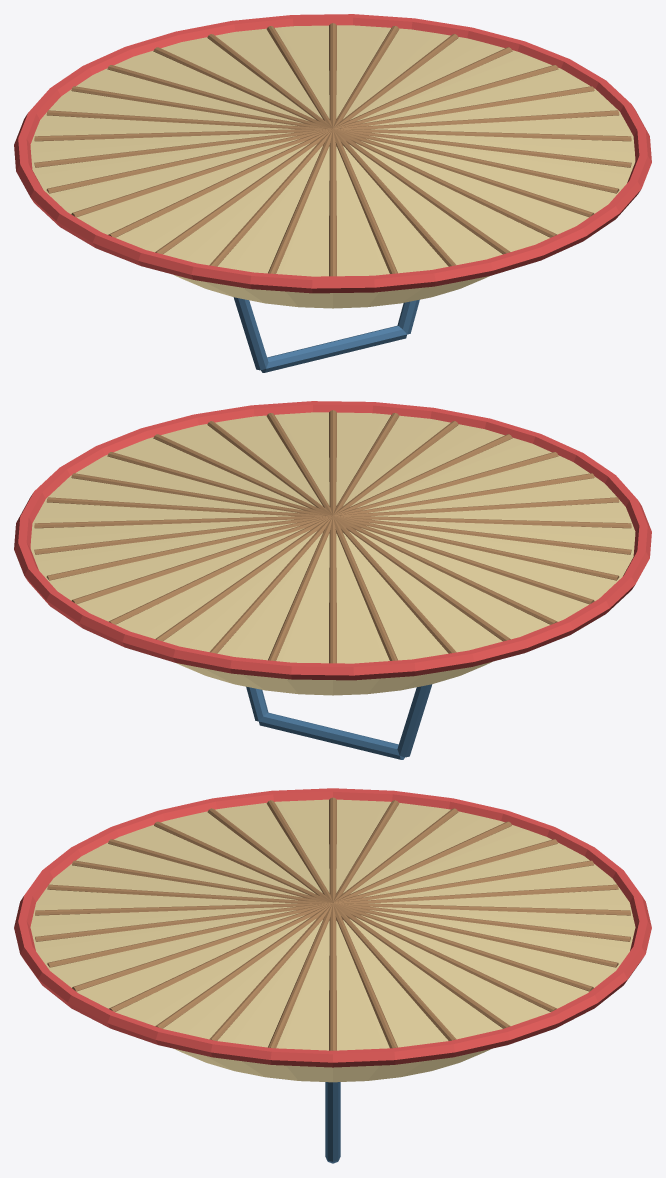
File: kabuki_kasa_hat.glb
3 views of the same model, one above another, from view 1: azimuth 30°, elevation 25°; view 2: azimuth 150°, elevation 25°; view 3: azimuth 270°, elevation 25° (orthographic).
Visible parts, largest first — view 1: Bamboo theatre kasa silhouette, Silk kasa brim, Silk chin strap_01, Bamboo kasa spoke.013, Bamboo kasa spoke.027, Bamboo kasa spoke.014, Bamboo kasa spoke.026, Bamboo kasa spoke.012, Bamboo kasa spoke.028, Bamboo kasa spoke.015, Bamboo kasa spoke.025, Bamboo kasa spoke.016 (+22 smaller); view 2: Bamboo theatre kasa silhouette, Silk kasa brim, Silk chin strap_01, Bamboo kasa spoke.003, Bamboo kasa spoke.017, Bamboo kasa spoke.004, Bamboo kasa spoke.016, Bamboo kasa spoke.002, Bamboo kasa spoke.018, Bamboo kasa spoke.015, Bamboo kasa spoke.005, Bamboo kasa spoke.014 (+22 smaller); view 3: Bamboo theatre kasa silhouette, Silk kasa brim, Bamboo kasa spoke.007, Bamboo kasa spoke.023, Bamboo kasa spoke.006, Bamboo kasa spoke.024, Bamboo kasa spoke.005, Bamboo kasa spoke.025, Bamboo kasa spoke.008, Bamboo kasa spoke.022, Bamboo kasa spoke.009, Bamboo kasa spoke.021 (+21 smaller).
Part boxes in pixels (x1,y1,x2,y2): Bamboo theatre kasa silhouette: (30, 25, 635, 308); Silk kasa brim: (14, 14, 651, 293); Silk chin strap_01: (261, 325, 407, 372); Bamboo kasa spoke.013: (34, 129, 330, 167); Bamboo kasa spoke.027: (335, 129, 631, 167); Bamboo kasa spoke.014: (46, 129, 330, 193); Bamboo kasa spoke.026: (335, 129, 619, 193); Bamboo kasa spoke.012: (34, 128, 331, 141); Bamboo kasa spoke.028: (334, 128, 631, 141); Bamboo kasa spoke.015: (71, 129, 331, 217); Bamboo kasa spoke.025: (334, 129, 594, 217); Bamboo kasa spoke.016: (108, 129, 331, 237); Bamboo theatre kasa silhouette: (30, 412, 635, 695); Silk kasa brim: (14, 401, 651, 680); Silk chin strap_01: (258, 712, 404, 759); Bamboo kasa spoke.003: (34, 516, 330, 554); Bamboo kasa spoke.017: (335, 516, 631, 554); Bamboo kasa spoke.004: (46, 516, 330, 580); Bamboo kasa spoke.016: (335, 516, 619, 580); Bamboo kasa spoke.002: (34, 515, 331, 528); Bamboo kasa spoke.018: (334, 515, 631, 528); Bamboo kasa spoke.015: (334, 516, 594, 604); Bamboo kasa spoke.005: (71, 516, 331, 604); Bamboo kasa spoke.014: (334, 516, 557, 624); Bamboo theatre kasa silhouette: (30, 799, 635, 1082); Silk kasa brim: (14, 788, 651, 1067); Bamboo kasa spoke.007: (334, 903, 630, 941); Bamboo kasa spoke.023: (35, 903, 331, 941); Bamboo kasa spoke.006: (335, 903, 618, 967); Bamboo kasa spoke.024: (47, 903, 330, 967); Bamboo kasa spoke.005: (334, 903, 593, 991); Bamboo kasa spoke.025: (72, 903, 331, 991); Bamboo kasa spoke.008: (336, 903, 630, 915); Bamboo kasa spoke.022: (35, 903, 329, 915); Bamboo kasa spoke.009: (334, 884, 618, 903); Bamboo kasa spoke.021: (47, 884, 331, 903).
Bounding box in the file's own units: 1.95 × 0.7638 × 1.95.
